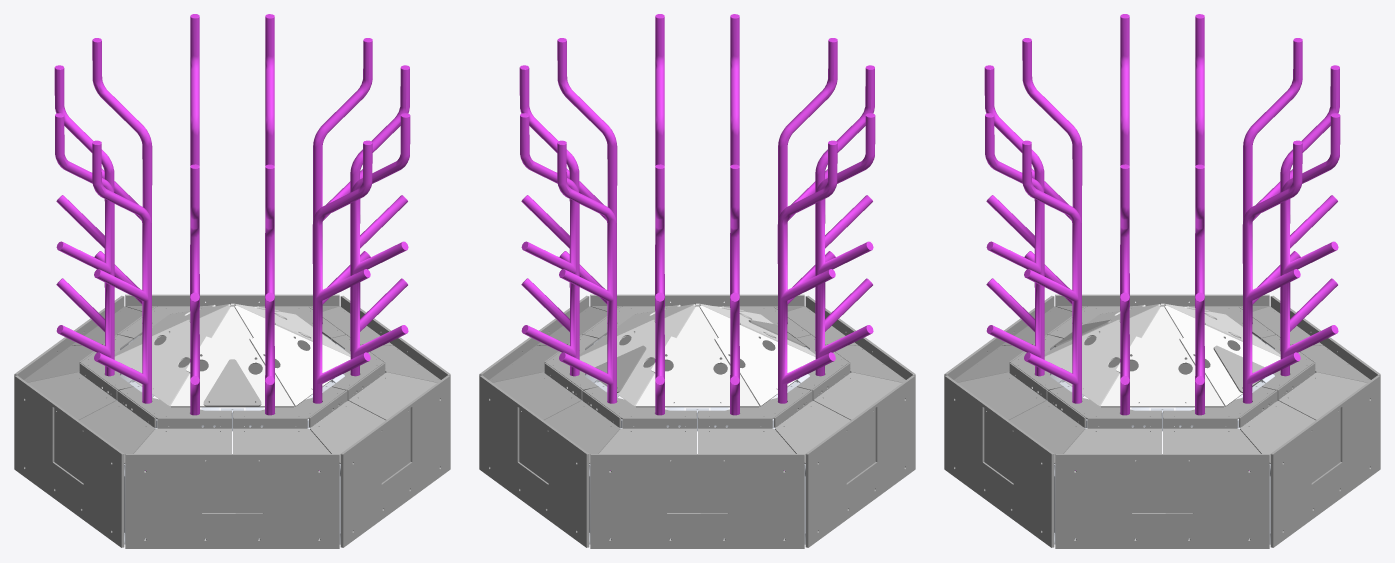
The model's file is Reef.fbx.
3 renders of one model, left to right at view 1: azimuth 30°, elevation 25°; view 2: azimuth 150°, elevation 25°; view 3: azimuth 270°, elevation 25°, orthographic.
Parts seen in each view (by area): view 1: GE-25302.005, GE-25302.001, GE-25302.002, GE-25306.004, GE-25301, GE-25301.002, GE-25306.005, GE-25301.003, GE-25306.003, GE-25301.011, GE-25301.007, GE-25301.009 (+30 smaller); view 2: GE-25302, GE-25302.003, GE-25302.001, GE-25306.001, GE-25301.011, GE-25301.005, GE-25306.003, GE-25301.002, GE-25301.010, GE-25306, GE-25301.004, GE-25301.006 (+30 smaller); view 3: GE-25302.004, GE-25302.002, GE-25302.003, GE-25306.002, GE-25301.010, GE-25301.003, GE-25301.005, GE-25306.005, GE-25301, GE-25306, GE-25301.008, GE-25301.001 (+30 smaller).
Boxes of the visible parts, x1,y1,x2,y2 form: GE-25302.005: [125, 454, 339, 548]; GE-25302.001: [14, 375, 124, 547]; GE-25302.002: [340, 375, 450, 547]; GE-25306.004: [170, 306, 294, 407]; GE-25301: [312, 140, 372, 470]; GE-25301.002: [92, 140, 151, 470]; GE-25306.005: [234, 305, 350, 406]; GE-25301.003: [350, 113, 410, 376]; GE-25306.003: [114, 305, 230, 406]; GE-25301.011: [55, 113, 114, 376]; GE-25301.007: [350, 65, 409, 350]; GE-25301.009: [54, 65, 114, 331]; GE-25302: [590, 454, 804, 548]; GE-25302.003: [479, 375, 589, 547]; GE-25302.001: [805, 375, 915, 547]; GE-25306.001: [635, 306, 759, 407]; GE-25301.011: [777, 140, 837, 470]; GE-25301.005: [557, 140, 616, 470]; GE-25306.003: [699, 305, 815, 406]; GE-25301.002: [815, 113, 875, 376]; GE-25301.010: [520, 113, 579, 376]; GE-25306: [579, 305, 695, 406]; GE-25301.004: [815, 65, 874, 350]; GE-25301.006: [519, 65, 579, 331]; GE-25302.004: [1055, 454, 1269, 548]; GE-25302.002: [944, 375, 1054, 547]; GE-25302.003: [1270, 375, 1380, 547]; GE-25306.002: [1100, 306, 1224, 407]; GE-25301.010: [1242, 140, 1302, 470]; GE-25301.003: [1022, 140, 1081, 470]; GE-25301.005: [1280, 113, 1340, 376]; GE-25306.005: [1044, 305, 1160, 406]; GE-25301: [985, 113, 1044, 376]; GE-25306: [1164, 305, 1280, 406]; GE-25301.008: [1280, 65, 1339, 350]; GE-25301.001: [984, 65, 1044, 331].
Bounding box in the file's own units: 166 × 183 × 191.
